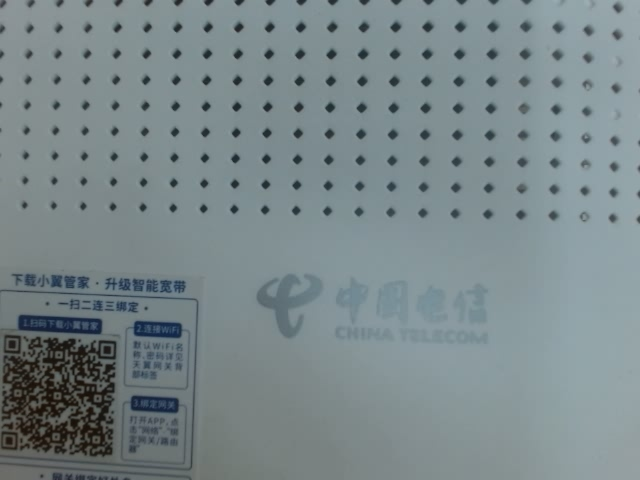AB_ChinaTelecom: (251, 251, 508, 360)
